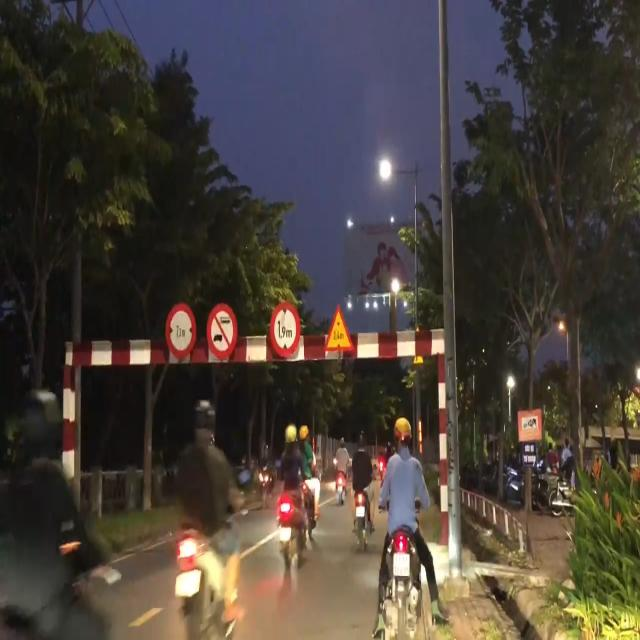Bien bao cam xe oto khach va xe oto tai: (205, 298, 239, 370)
Bien bao chieu cao tinh khong thuc te: (324, 302, 358, 356)
Bien bao han che chieu cao: (266, 297, 304, 365)
